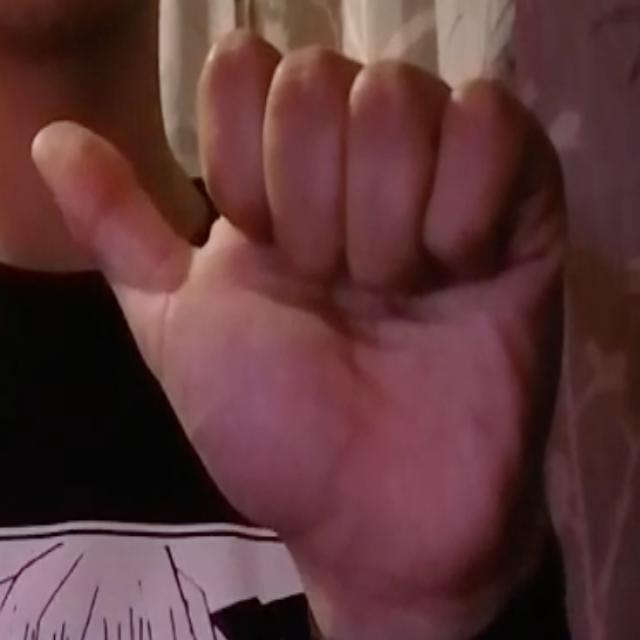A: (16, 19, 575, 605)
